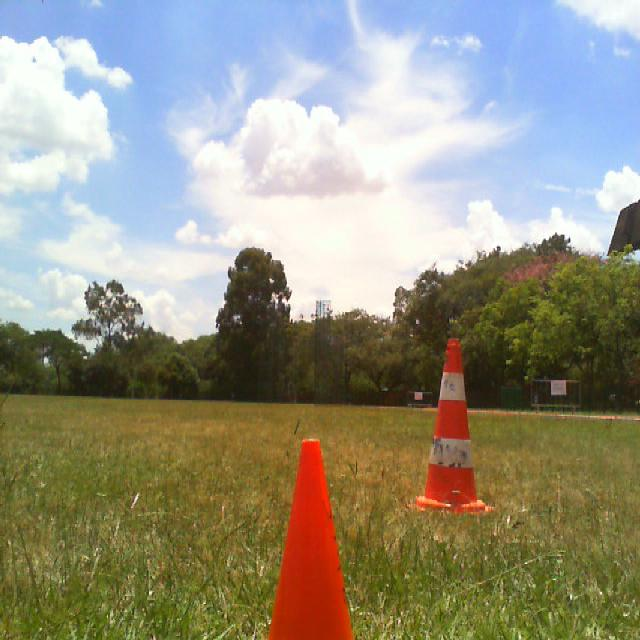cone: (268, 438, 352, 640), (407, 339, 493, 513)
